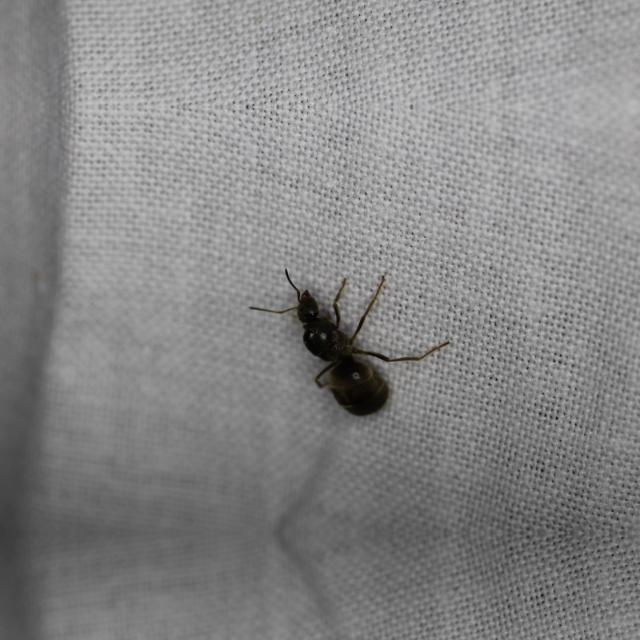Lasius: (253, 263, 434, 431)
